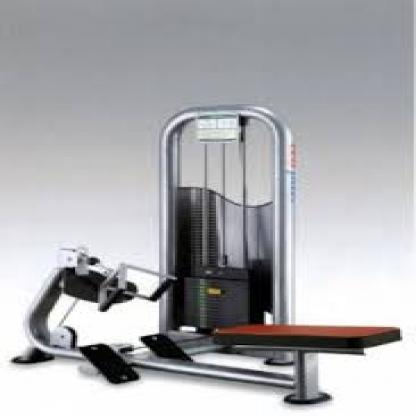Seated Cable Rows: (10, 100, 404, 410)
